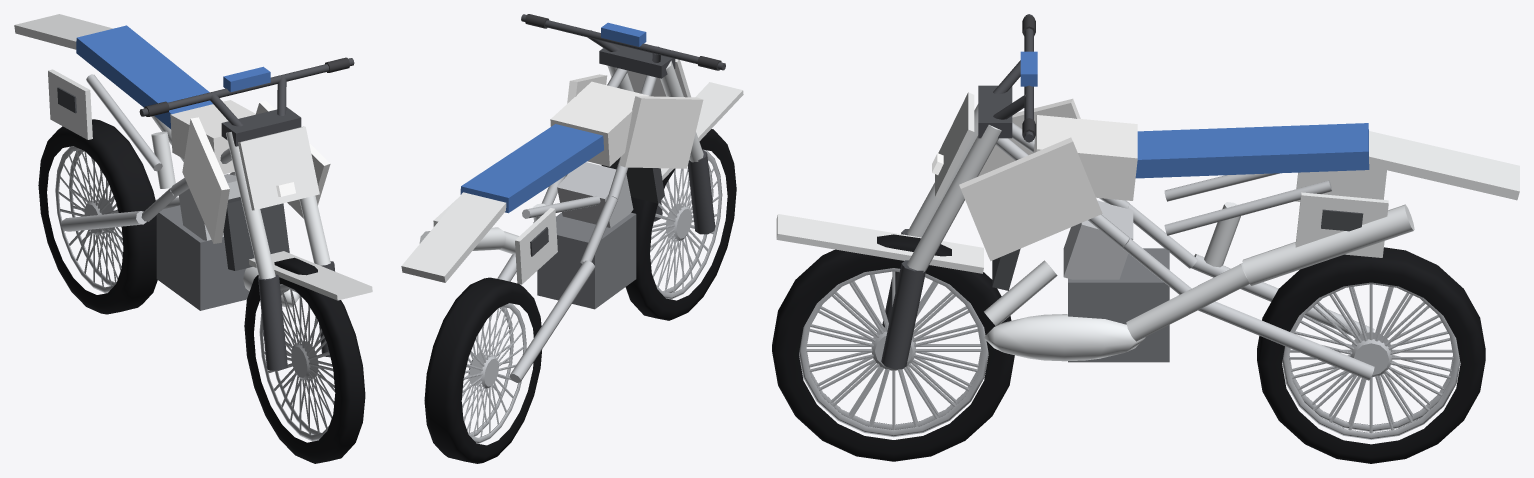
File: yamaha_yz250.glb
3 views of the same model, side by side, from view 1: azimuth 30°, elevation 25°; view 2: azimuth 150°, elevation 25°; view 3: azimuth 270°, elevation 25° (orthographic). The views are drawn at different scales.
Parts seen in each view (by area): view 1: body_trim (×2), tire (×2), rim (×4), body_paint, body_chrome (×2); view 2: body_trim (×2), tire (×2), body_paint, rim (×4), body_chrome (×2); view 3: body_trim (×2), tire (×2), rim (×4), body_chrome (×2), body_paint.
Part boxes in pixels (x1,y1,x2,y2): body_trim (×2): [14, 14, 372, 370]; tire (×2): [38, 119, 365, 463]; rim (×4): [55, 146, 334, 441]; body_paint: [170, 100, 330, 243]; body_chrome (×2): [151, 116, 330, 307]; body_trim (×2): [401, 14, 743, 382]; tire (×2): [424, 129, 736, 463]; body_paint: [550, 74, 703, 168]; rim (×4): [462, 149, 722, 443]; body_chrome (×2): [419, 60, 703, 253]; body_trim (×2): [776, 14, 1519, 380]; tire (×2): [772, 234, 1485, 463]; rim (×4): [799, 268, 1460, 439]; body_chrome (×2): [907, 104, 1414, 361]; body_paint: [959, 98, 1137, 261].
Bounding box in the file's own units: 0.84 × 1.29 × 2.21.
